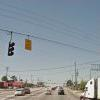Traffic light: (5, 31, 15, 60)
